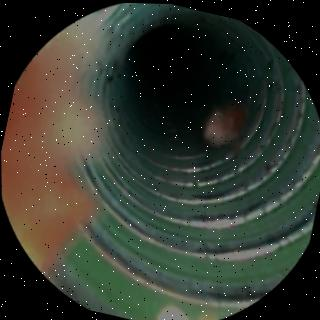stone: (203, 103, 243, 144)
